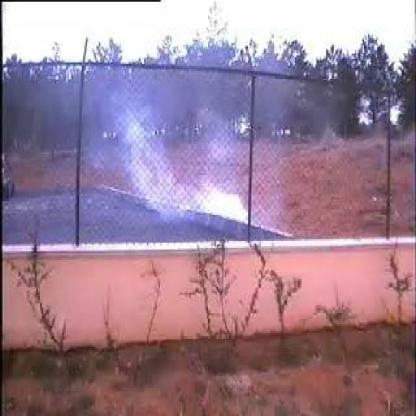-: (103, 108, 249, 223)
